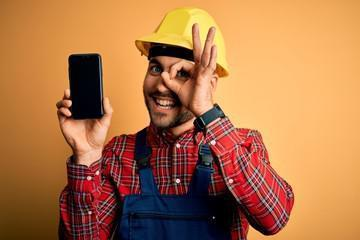helmet: (134, 8, 230, 76)
